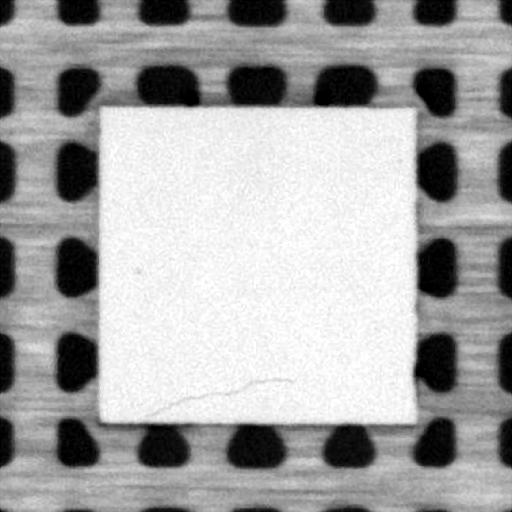DIE_INK: (136, 265, 142, 278)
